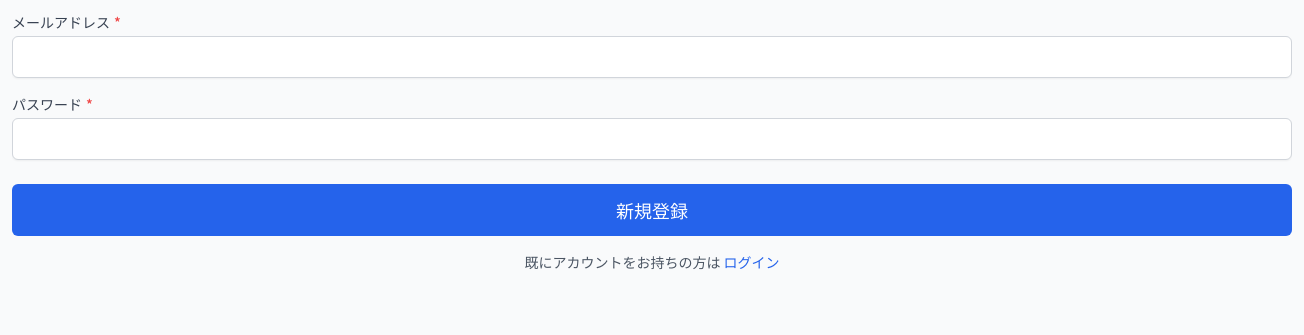
it: RegisterForm › 空のまま登録ボタンを押すとバリデーションエラーが表示される
Click the button "新規登録": (652, 210) [12,184,1292,236]
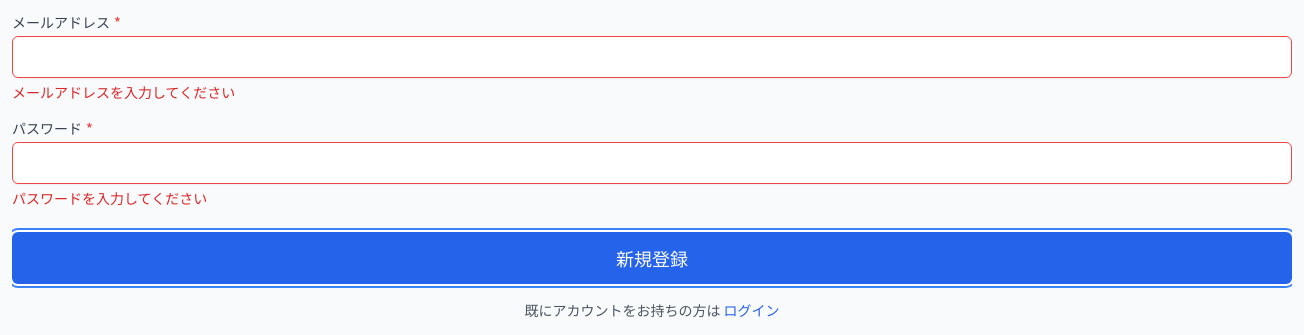
Expected: the text "メールアドレスを入力してください" is shown, [12,82,235,102]
Expected: the text "パスワードを入力してください" is shown, [12,188,207,208]
